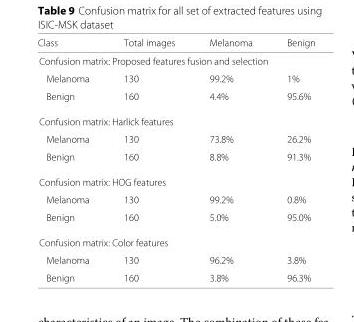table: (36, 36, 314, 282)
table column: (105, 36, 191, 282), (191, 36, 269, 282), (36, 36, 105, 282), (269, 36, 314, 282)
table column header: (36, 36, 314, 51)
table projected row header: (36, 168, 314, 190), (36, 108, 314, 129), (36, 229, 314, 250), (36, 51, 314, 69)
table row: (36, 168, 314, 190), (36, 87, 314, 108), (36, 108, 314, 129), (36, 147, 314, 168), (36, 208, 314, 229), (36, 229, 314, 250), (36, 51, 314, 69), (36, 69, 314, 87), (36, 129, 314, 147), (36, 190, 314, 208), (36, 250, 314, 268), (36, 36, 314, 51), (36, 268, 314, 282)
